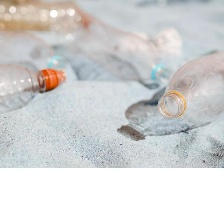bottle: (154, 46, 224, 125), (0, 56, 76, 122)
